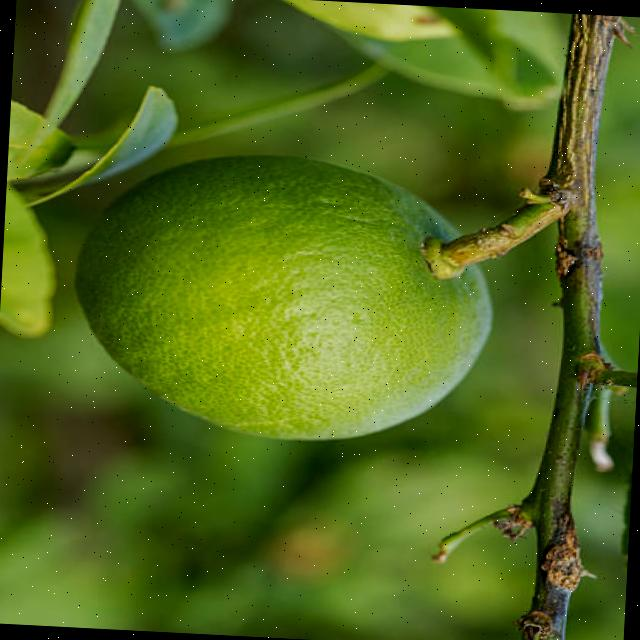Unripe: (67, 146, 500, 448)
